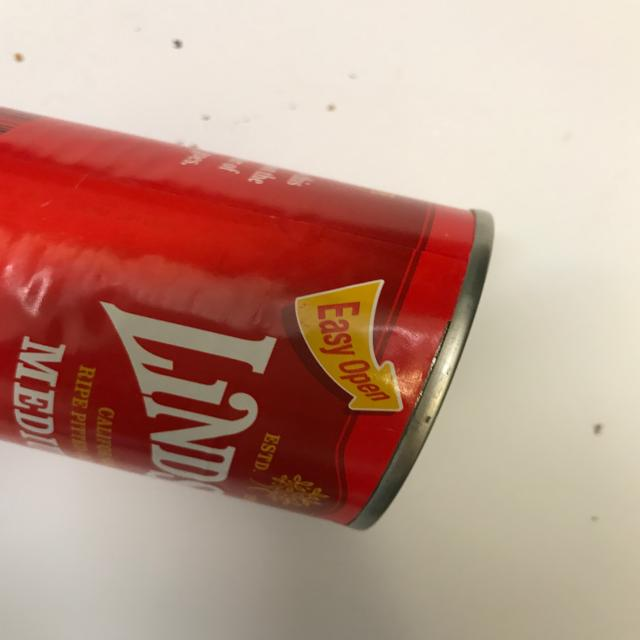metal: (0, 102, 495, 531)
